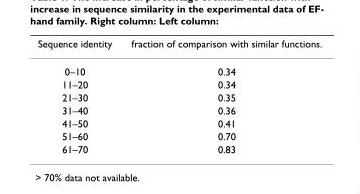table: (37, 37, 321, 154)
table column: (120, 37, 321, 154), (37, 37, 120, 154)
table column header: (37, 37, 321, 57)
table row: (37, 37, 321, 57), (37, 57, 321, 77), (37, 77, 321, 90), (37, 90, 321, 103), (37, 103, 321, 116), (37, 116, 321, 129), (37, 129, 321, 142), (37, 142, 321, 154)
